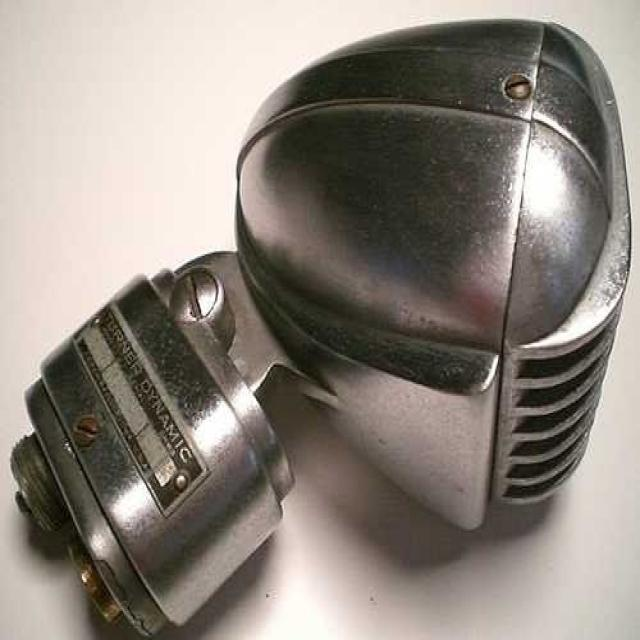microphone: (237, 20, 628, 518)
